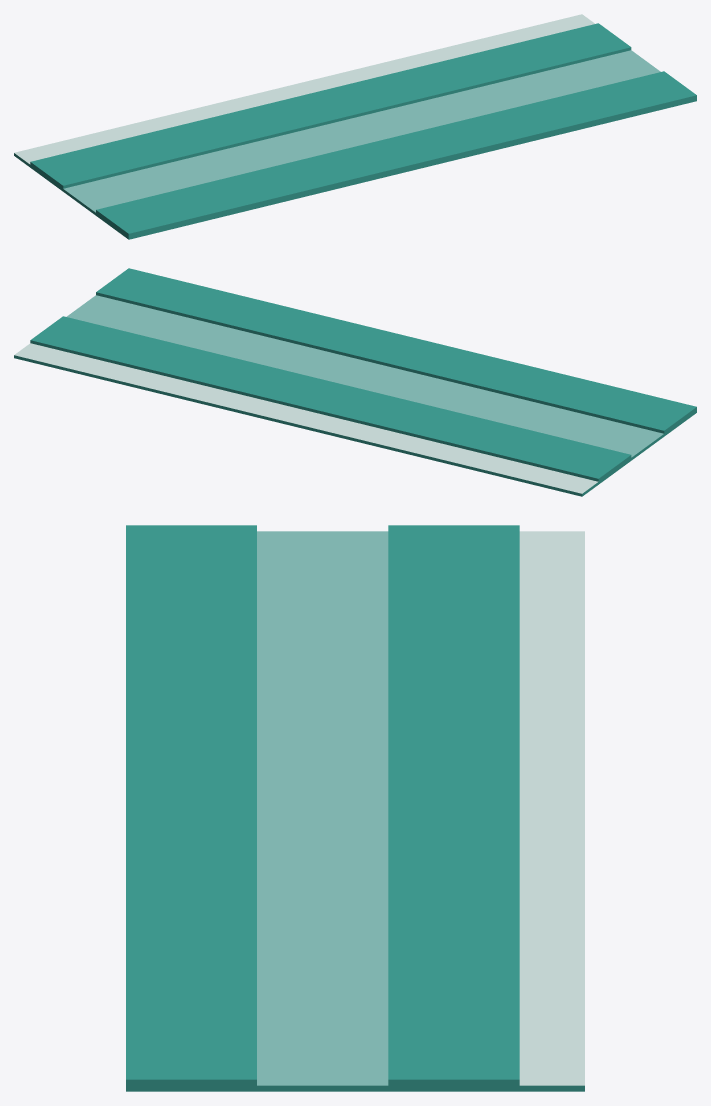
Rendered from Prop_Rug_Side.fbx.
3 renders of one model, top to bottom at view 1: azimuth 30°, elevation 25°; view 2: azimuth 150°, elevation 25°; view 3: azimuth 270°, elevation 25°, orthographic. The views are drawn at different scales.
Visible parts, largest first — view 1: object1; view 2: object1; view 3: object1.
Part boxes in pixels (x1,y1,x2,y2): object1: (14,14,696,239); object1: (14,268,696,496); object1: (126,525,584,1091).
Size of the model in its own units: 1 by 0.01 by 0.35.
